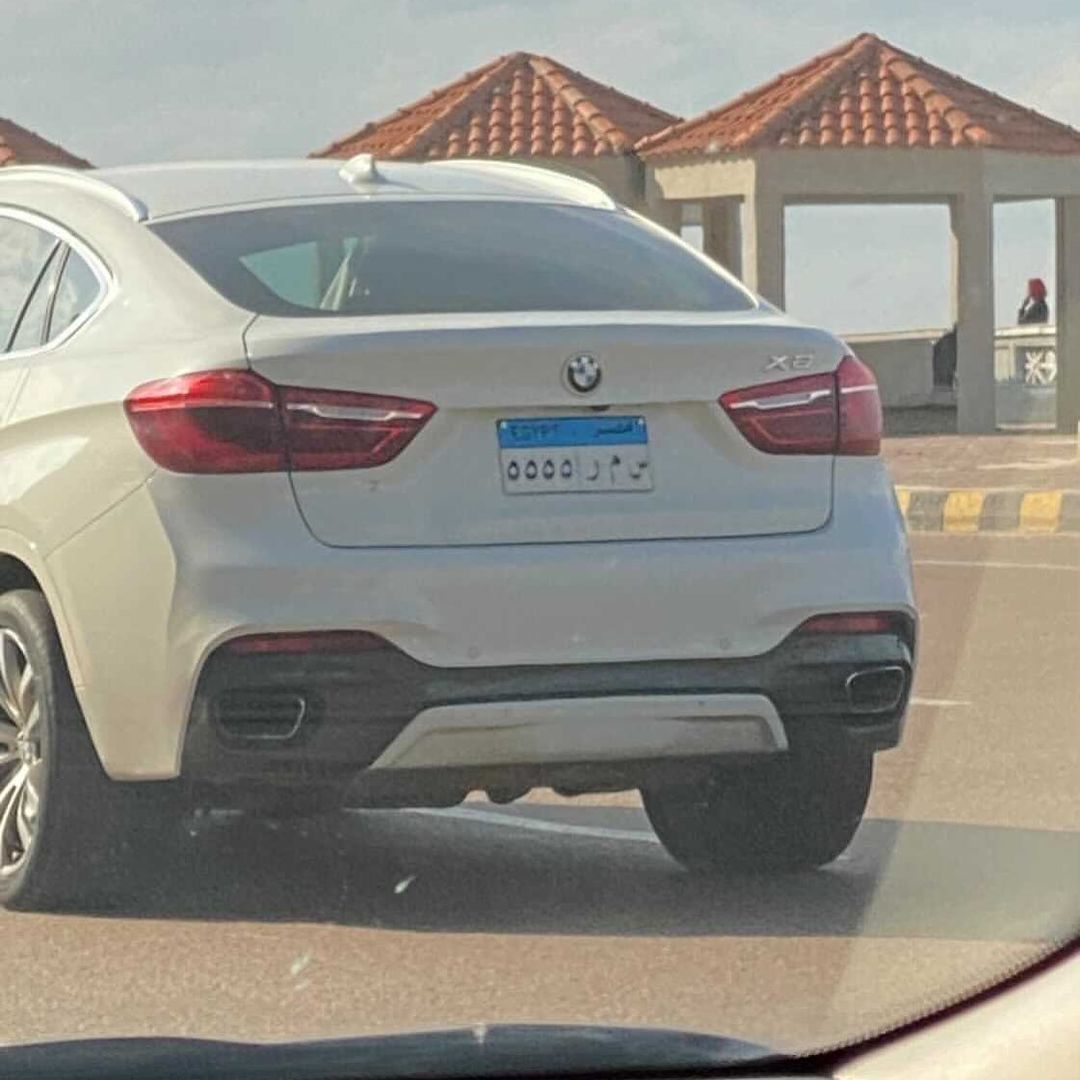carpl: (484, 399, 668, 499)
